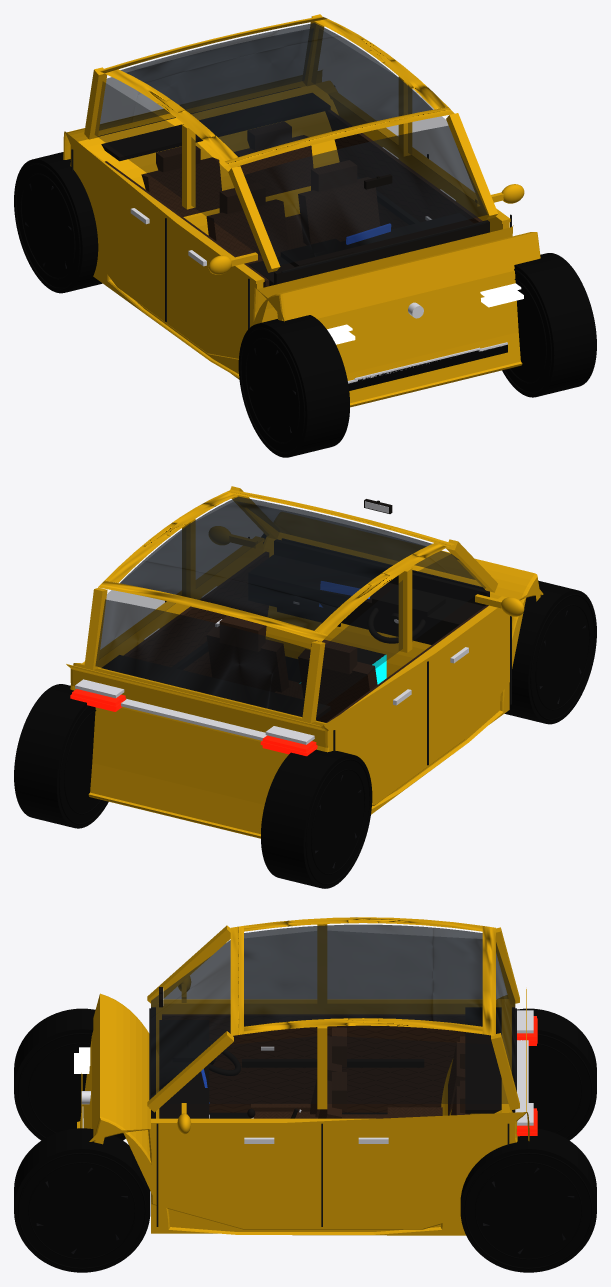
The model's file is urban.glb.
3 views of the same model, one above another, from view 1: azimuth 30°, elevation 25°; view 2: azimuth 150°, elevation 25°; view 3: azimuth 270°, elevation 25° (orthographic).
Parts seen in each view (by area): view 1: BodyShell, Wheel (×3), PanoramicRoof, Windshield, RearWindow, SideWinR_-1, InnerDoorCard_1, ParcelShelf, SeatBackF_1, SideWinF_-1, SeatBackF_-1, SeatBackR_-1 (+25 smaller); view 2: BodyShell, Wheel (×3), PanoramicRoof, RearWindow, DashMain, SideWinR_-1, InnerDoorCard_1, Windshield, ParcelShelf, SideWinF_-1, SeatBackF_1, Firewall (+24 smaller); view 3: BodyShell, Wheel (×4), PanoramicRoof, InnerDoorCard_-1, SideWinR_1, SideWinF_1, Windshield, ParcelShelf, DashMain, DoorSill_-1, DoorOuter_-1, RoofSideR (+24 smaller).
Boxes of the visible parts, x1,y1,x2,y2 form: BodyShell: [63, 70, 540, 407]; Wheel (×3): [14, 152, 596, 457]; PanoramicRoof: [120, 23, 432, 157]; Windshield: [244, 126, 487, 265]; RearWindow: [99, 29, 313, 130]; SideWinR_-1: [95, 81, 181, 197]; InnerDoorCard_1: [325, 110, 482, 229]; ParcelShelf: [101, 93, 330, 161]; SeatBackF_1: [298, 177, 379, 244]; SideWinF_-1: [191, 137, 261, 256]; SeatBackF_-1: [206, 199, 288, 264]; SeatBackR_-1: [141, 157, 221, 216]; BodyShell: [66, 532, 543, 838]; Wheel (×3): [14, 580, 596, 888]; PanoramicRoof: [120, 496, 432, 630]; RearWindow: [95, 599, 310, 716]; DashMain: [248, 555, 484, 644]; SideWinR_-1: [317, 580, 402, 710]; InnerDoorCard_1: [124, 552, 268, 676]; Windshield: [238, 502, 474, 579]; ParcelShelf: [101, 655, 330, 720]; SideWinF_-1: [412, 554, 485, 641]; SeatBackF_1: [207, 627, 288, 692]; Firewall: [274, 539, 489, 605]; BodyShell: [77, 989, 529, 1235]; Wheel (×4): [14, 1008, 596, 1272]; PanoramicRoof: [244, 924, 482, 1026]; InnerDoorCard_-1: [162, 1014, 465, 1112]; SideWinR_1: [327, 1036, 508, 1103]; SideWinF_1: [165, 1036, 316, 1103]; Windshield: [151, 940, 230, 1098]; ParcelShelf: [465, 1007, 515, 1113]; DashMain: [159, 1020, 209, 1118]; DoorSill_-1: [151, 999, 514, 1006]; DoorOuter_-1: [156, 1007, 465, 1054]; RoofSideR: [244, 1018, 482, 1034].
Size of what is drawn, in the model's own units: 2.17 by 1.54 by 3.5.
18 materials, 3 textured.
